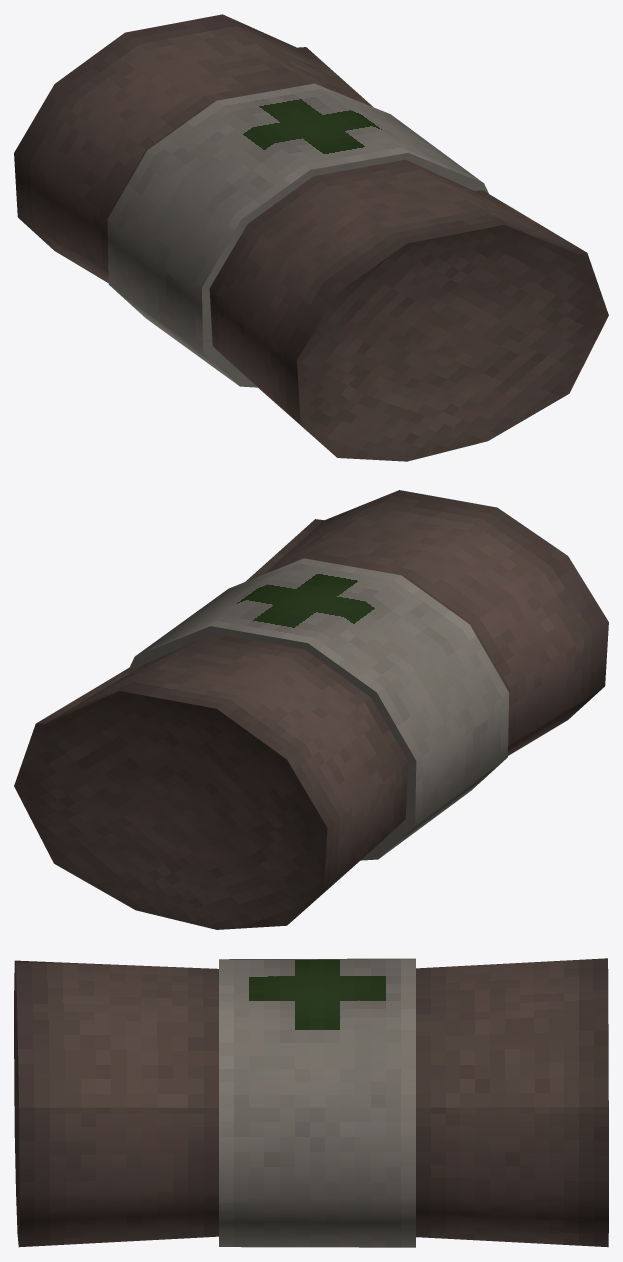
The model's file is bandage_mp_2.glb.
3 views of the same model, one above another, from view 1: azimuth 30°, elevation 25°; view 2: azimuth 150°, elevation 25°; view 3: azimuth 270°, elevation 25° (orthographic). The views are drawn at different scales.
Parts seen in each view (by area): view 1: bandage_mp_2; view 2: bandage_mp_2; view 3: bandage_mp_2.
Boxes of the visible parts, x1=… form: bandage_mp_2: x1=14, y1=14, x2=608, y2=461; bandage_mp_2: x1=14, y1=490, x2=608, y2=929; bandage_mp_2: x1=14, y1=958, x2=608, y2=1247.
Size of the model in its own units: 0.1007 by 0.068 by 0.1569.
1 material, 1 textured.
